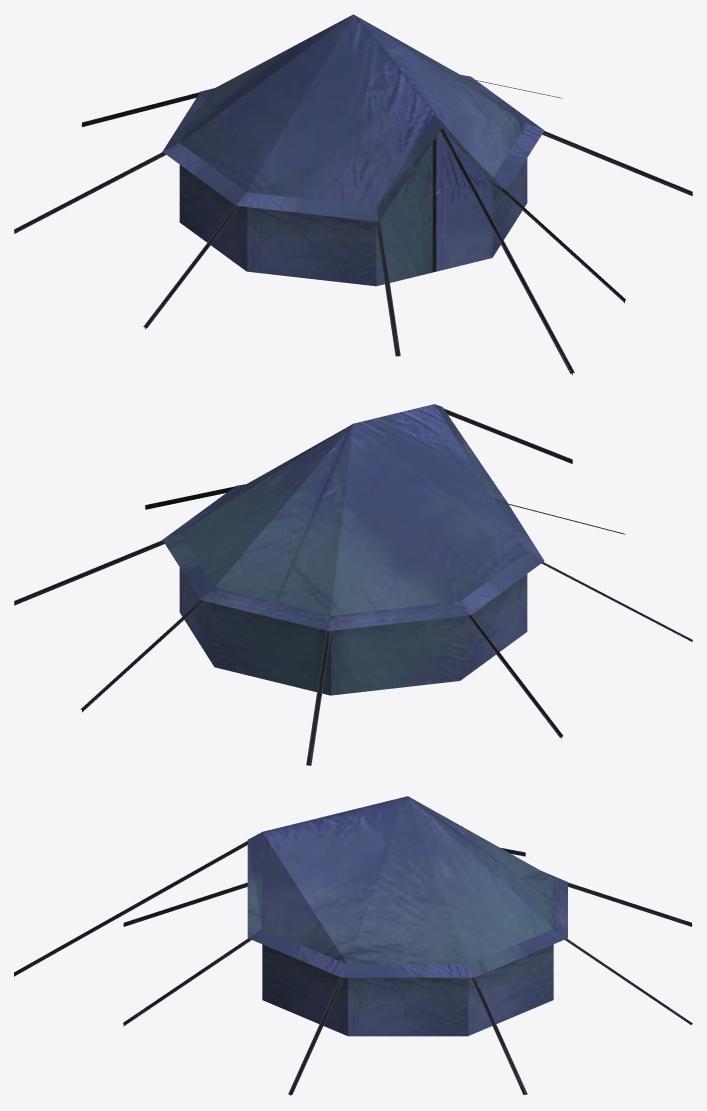
Rendered from Tent01BA.obj.
The picture shows the model from 3 angles, top to bottom: view 1: azimuth 30°, elevation 25°; view 2: azimuth 150°, elevation 25°; view 3: azimuth 270°, elevation 25°; orthographic projection. The views are drawn at different scales.
Visible parts, largest first — view 1: Tent01BA; view 2: Tent01BA; view 3: Tent01BA.
Boxes of the visible parts, x1,y1,x2,y2 form: Tent01BA: (14, 14, 692, 375); Tent01BA: (14, 404, 692, 765); Tent01BA: (14, 796, 692, 1095).
Bounding box in the file's own units: 10.85 × 3.8 × 12.93.
